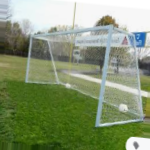goals: (23, 23, 148, 128)
